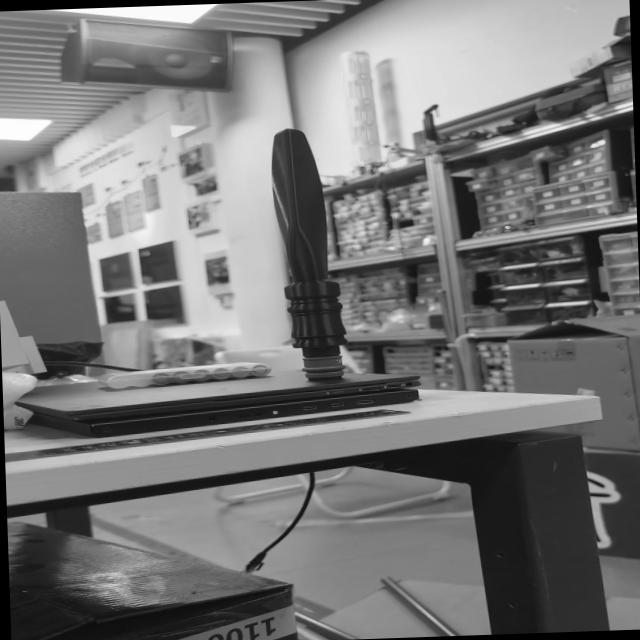base: (294, 352, 356, 386)
